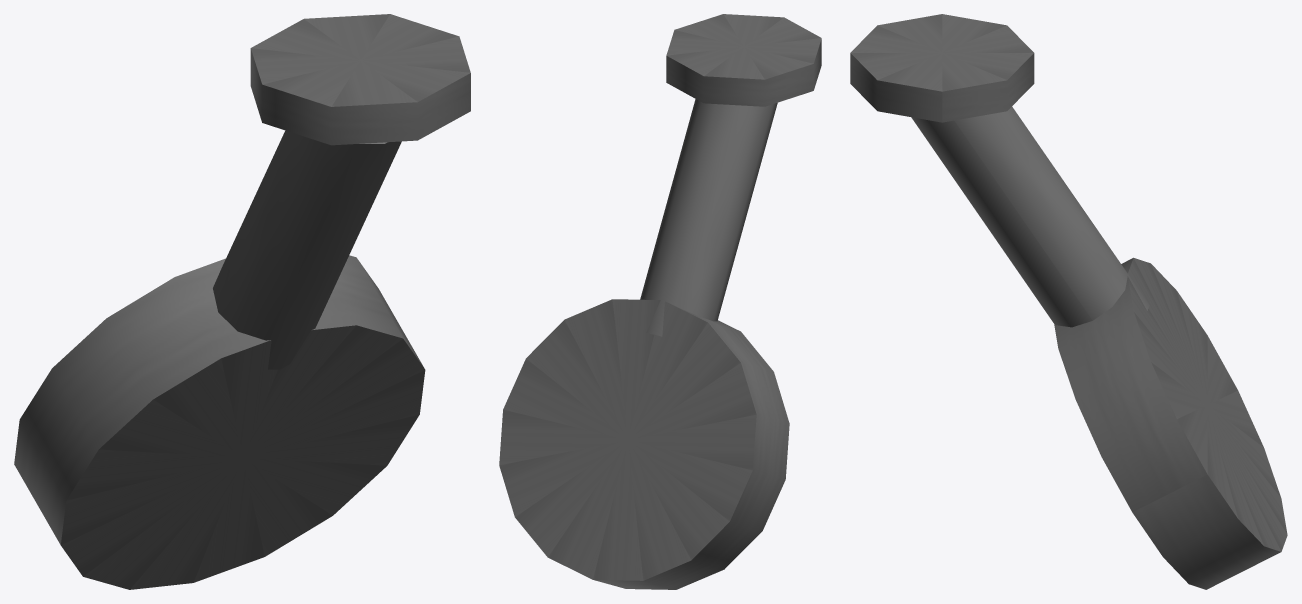
Rendered from mastarmcurve_6x2_c1_up.obj.
The picture shows the model from 3 angles, left to right: view 1: azimuth 30°, elevation 25°; view 2: azimuth 150°, elevation 25°; view 3: azimuth 270°, elevation 25°; orthographic projection. The views are drawn at different scales.
Visible parts, largest first — view 1: mastarm_6x2_c1_up; view 2: mastarm_6x2_c1_up; view 3: mastarm_6x2_c1_up.
Part boxes in pixels (left/top/right/bottom): mastarm_6x2_c1_up: left=14, top=14, right=470, bottom=589; mastarm_6x2_c1_up: left=499, top=14, right=821, bottom=589; mastarm_6x2_c1_up: left=850, top=14, right=1287, bottom=589.
Size of the model in its own units: 0.7168 by 1.25 by 0.9515.
